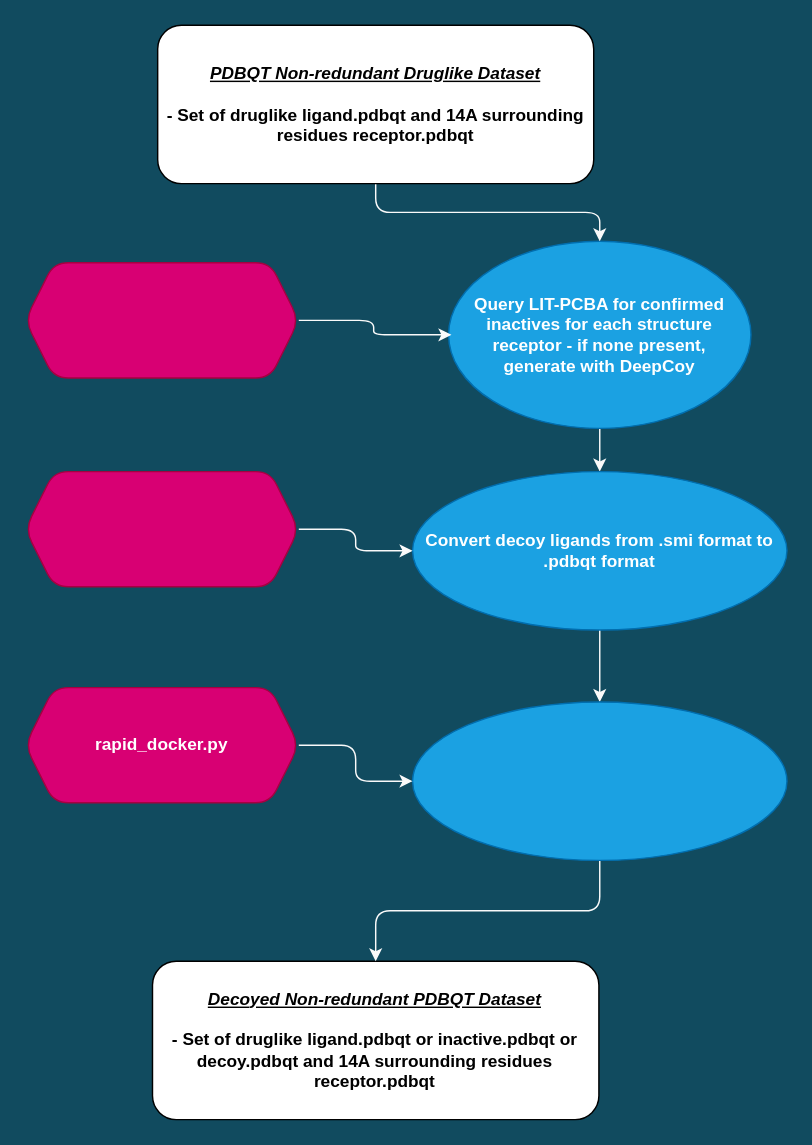
Some shapes in this 812 by 1145 pixel diagram are drawn without their labels. The box of each missing label's shape, as (x1, y1, x2, y2) in pixels:
decoy_generator.py: (24, 261, 299, 378)
Dock decoy ligands to PDBBind/Binding MOAD receptor files: (411, 701, 787, 860)
smile_to_pdbqt_converter.py: (24, 470, 299, 587)
